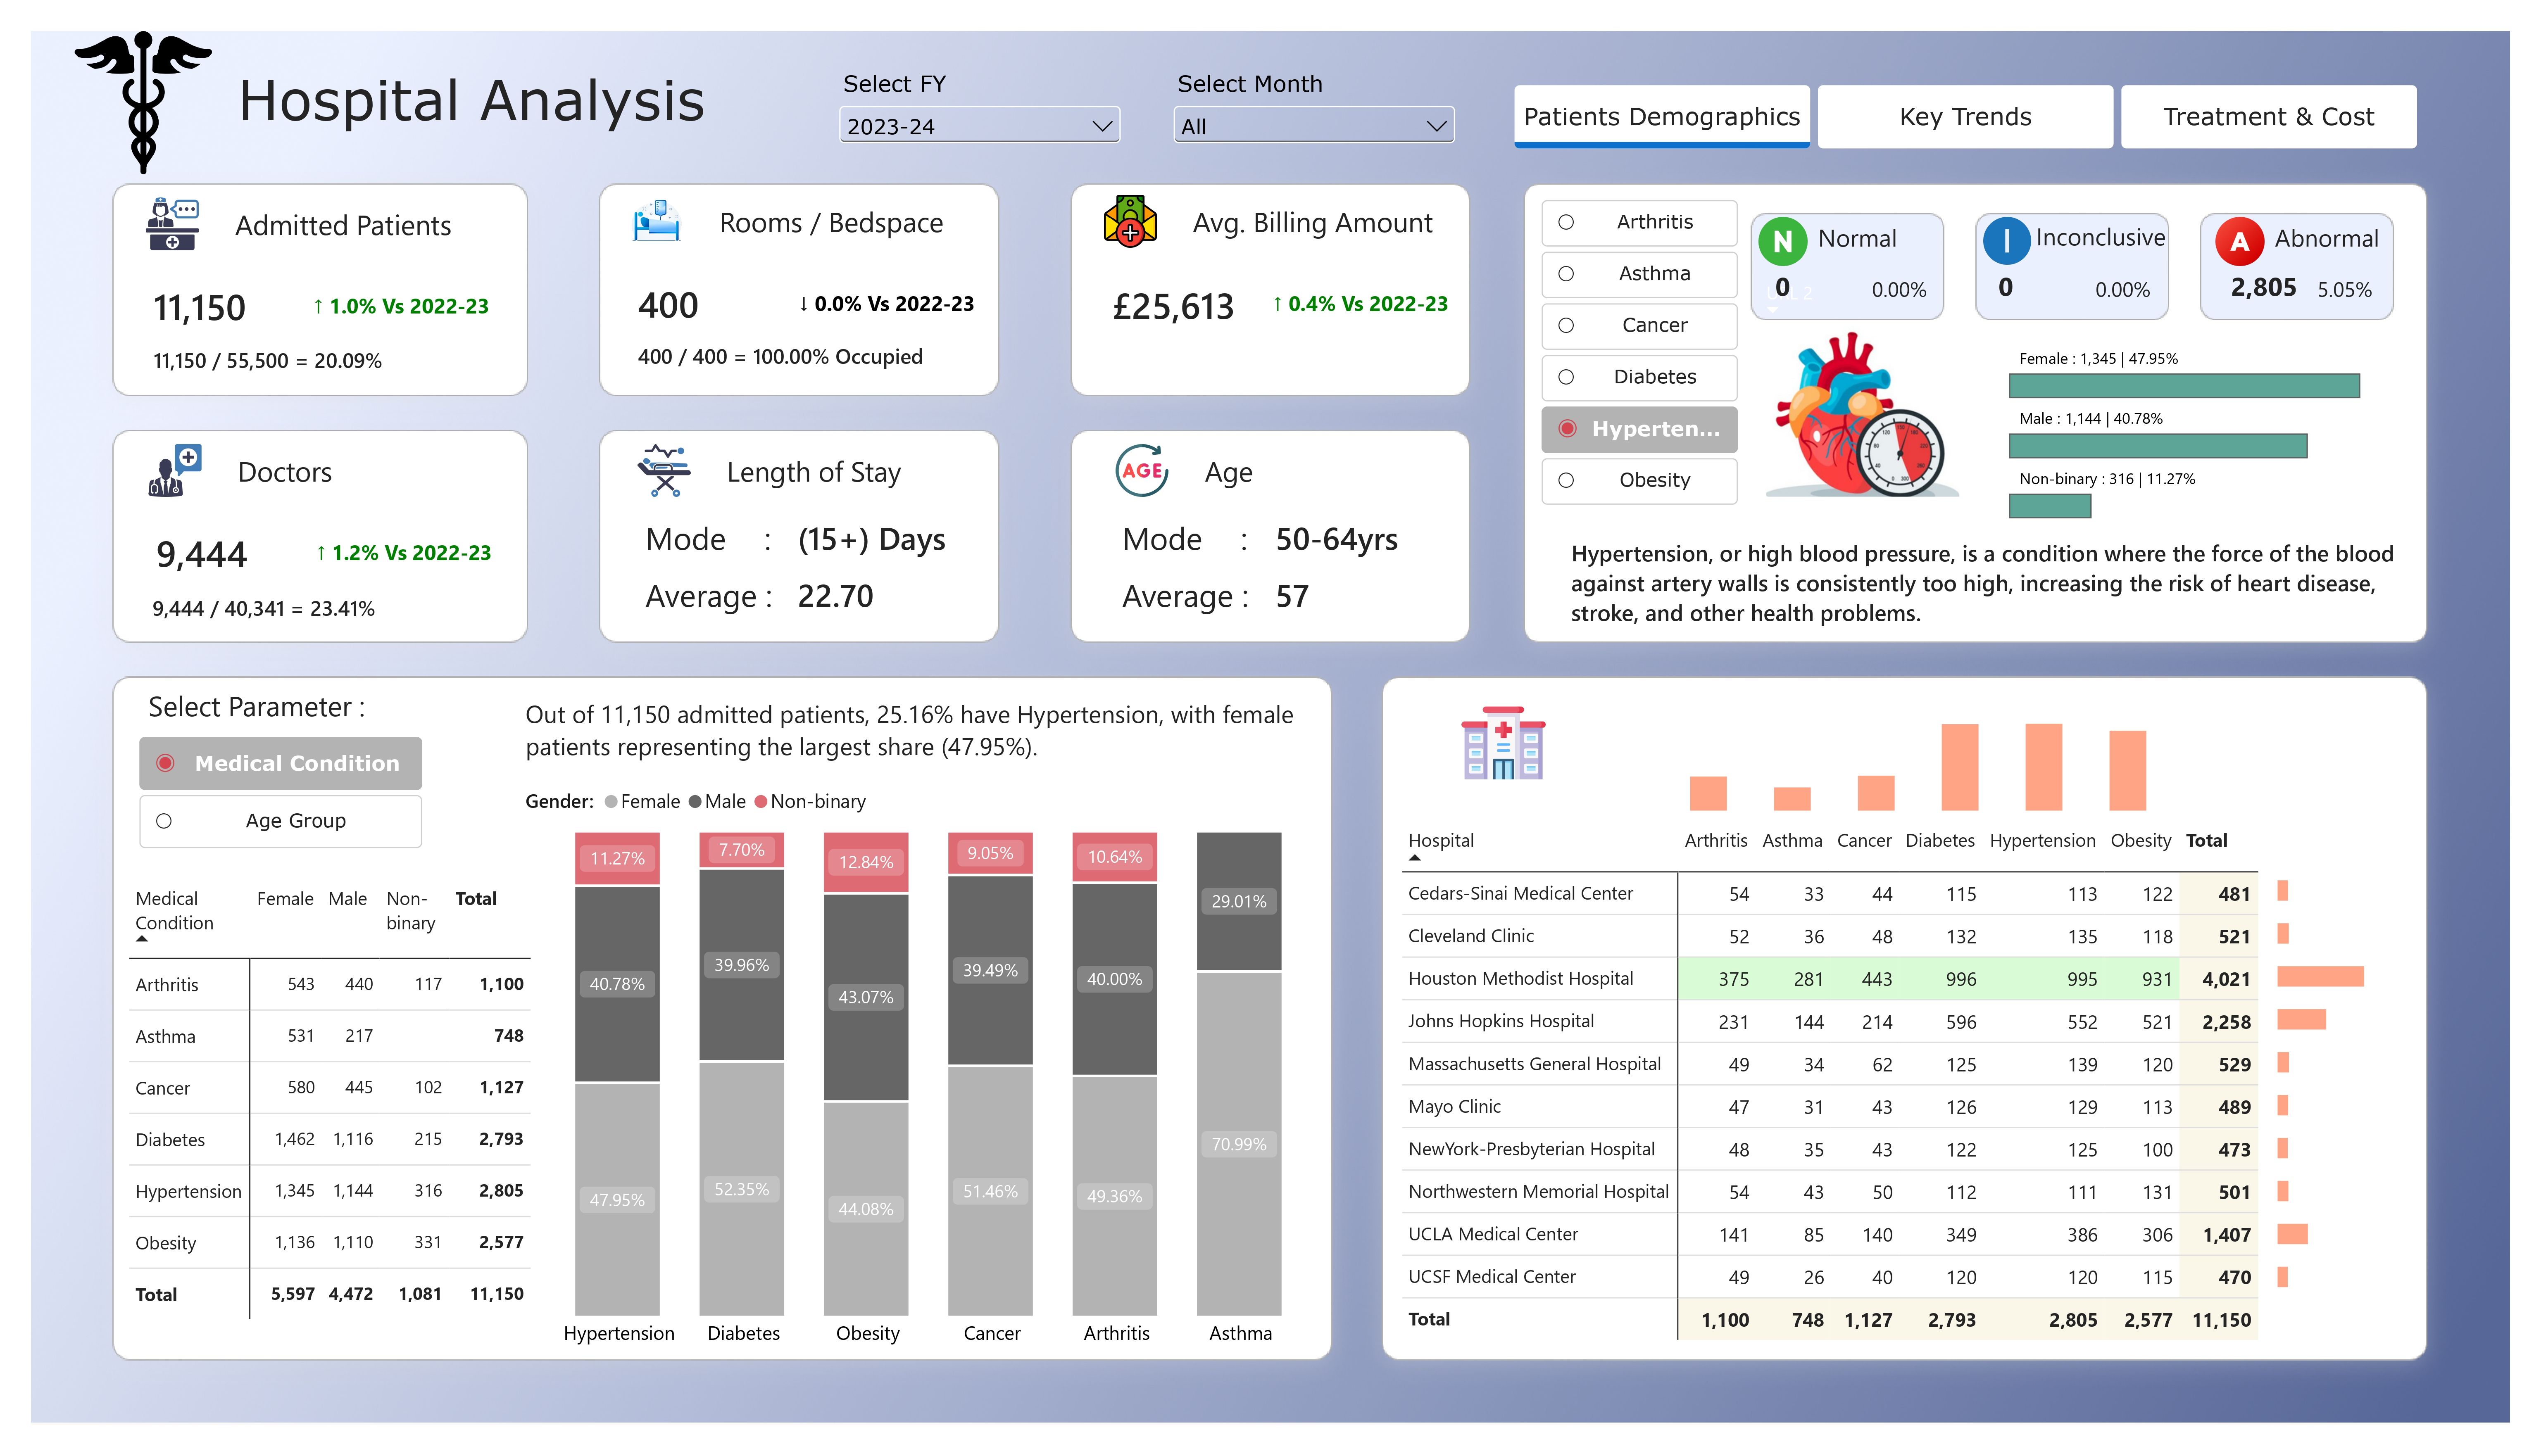

The dashboard page shown, as its layout file describes it:
{"tool":"powerbi","page":{"name":"Patients Demographics","canvas":[1920,1080],"ordinal":0},"visuals":[{"type":"image","box":[1329.4,143.9,55,37.5],"z":0,"group":"g1"},{"type":"image","box":[1683.2,143.9,55,37.5],"z":0,"group":"g2"},{"type":"image","box":[1502.7,144,55,37.5],"z":0},{"type":"textbox","box":[1553.2,146.2,117.5,36.2],"z":1000},{"type":"textbox","box":[1384.4,146.4,88.8,35],"z":1000,"group":"g1"},{"type":"textbox","box":[1738.2,146.4,88.8,35],"z":1000,"group":"g2"},{"type":"slicer","fields":{"Values":["Calendar.FY"]},"box":[620.6,29.8,228.3,65],"z":2000},{"type":"tableEx","fields":{"Values":["DimCondition.URL 2"]},"box":[1322.2,175.1,232,226.3],"z":3000},{"type":"advancedSlicerVisual","fields":{"Values":["DimCondition.Medical Condition"]},"box":[1169.9,111,152.3,277.5],"z":4000},{"type":"cardVisual","fields":{"Data":["Min(DimCondition.Description)"]},"box":[1176.7,360,678.3,133.3],"z":5000},{"type":"group","id":"g1","title":"Group 1","box":[1329.4,143.9,143.8,37.5],"z":6000},{"type":"group","id":"g2","title":"Group 1","box":[1683.2,143.9,143.8,37.5],"z":7000},{"type":"cardVisual","fields":{"Data":["DAX.Normal Results"]},"box":[1335,164.2,116.7,64.4],"z":8000},{"type":"cardVisual","fields":{"Data":["DAX.Inconclusive Results"]},"box":[1508,163.8,116.7,64.4],"z":9000},{"type":"cardVisual","fields":{"Data":["DAX.Abnormal Results"]},"box":[1688,163.8,116.7,64.4],"z":10000},{"type":"cardVisual","fields":{"Data":["DAX.Normal Result %"]},"box":[1409.5,170.7,99.6,56.9],"z":11000},{"type":"cardVisual","fields":{"Data":["DAX.Inconclusive %"]},"box":[1583.5,170.7,99.6,56.9],"z":12000},{"type":"cardVisual","fields":{"Data":["DAX.Abnormal %"]},"box":[1755.3,170.9,99.6,56.9],"z":13000},{"type":"cardVisual","fields":{"Data":["DAX.Admitted Patients"]},"box":[78.6,171.4,172.3,82.9],"z":14000},{"type":"slicer","fields":{"Values":["Calendar.FY Month"]},"box":[880,29.7,228.3,65],"z":15000},{"type":"image","box":[78.5,129,61.2,41.2],"z":16000},{"type":"textbox","box":[157.5,135,187.5,28.8],"z":17000},{"type":"cardVisual","fields":{"Data":["DAX.Adm YoY"]},"box":[202.9,177.1,201.4,70],"z":18000},{"type":"cardVisual","fields":{"Data":["DAX.Admitted P Text"]},"box":[78.6,227.1,235.7,54.3],"z":19000},{"type":"cardVisual","fields":{"Data":["DAX.Rooms"]},"box":[454.3,169.2,172.3,82.9],"z":20000},{"type":"image","box":[454.3,127.1,61,41],"z":21000},{"type":"textbox","box":[533.2,132.8,187.5,28.8],"z":22000},{"type":"cardVisual","fields":{"Data":["DAX.Room YoY"]},"box":[578.6,174.9,201.4,70],"z":23000},{"type":"cardVisual","fields":{"Data":["DAX.Rooms Occupied Text"]},"box":[454.3,224.3,265.7,54.3],"z":24000},{"type":"cardVisual","fields":{"Data":["DAX.Avg Billing Amt"]},"box":[821.2,169.8,172.3,82.9],"z":25000},{"type":"image","box":[820.9,127.2,61.2,41.3],"z":26000},{"type":"textbox","box":[900.2,133.3,187.5,28.8],"z":27000},{"type":"cardVisual","fields":{"Data":["DAX.Bill YoY"]},"box":[945.5,175.5,201.4,70],"z":28000},{"type":"cardVisual","fields":{"Data":["DAX.Doctors"]},"box":[81.1,362.2,172.3,82.9],"z":29000},{"type":"image","box":[81,319.7,61.2,41.2],"z":30000},{"type":"textbox","box":[160.1,325.7,187.5,28.8],"z":31000},{"type":"cardVisual","fields":{"Data":["DAX.Doc YoY"]},"box":[205.4,367.9,201.4,70],"z":32000},{"type":"cardVisual","fields":{"Data":["DAX.Doc Text"]},"box":[78,419.2,235.7,54.3],"z":33000},{"type":"cardVisual","fields":{"Data":["DAX.Mode Age"]},"box":[947.9,371.5,155.1,42.7],"z":34000},{"type":"image","box":[829.7,319.8,61.2,41.2],"z":35000},{"type":"textbox","box":[908.8,325.8,187.5,28.8],"z":36000},{"type":"cardVisual","fields":{"Data":["DAX.Average Age of Group"]},"box":[947.9,416,118.1,39.9],"z":37000},{"type":"textbox","box":[845.4,375.7,156.6,34.2],"z":38000},{"type":"textbox","box":[845.4,419.9,123.8,34.2],"z":39000},{"type":"cardVisual","fields":{"Data":["DAX.Mode LOS"]},"box":[577.9,371.5,251.9,42.7],"z":40000},{"type":"image","box":[460.1,319.8,61.2,41.2],"z":41000},{"type":"textbox","box":[539.2,325.8,187.5,28.8],"z":42000},{"type":"cardVisual","fields":{"Data":["DAX.Average LOS of Group"]},"box":[578.3,416,118.1,39.9],"z":43000},{"type":"textbox","box":[475.8,375.7,156.6,34.2],"z":44000},{"type":"textbox","box":[475.8,419.9,123.8,34.2],"z":45000},{"type":"clusteredBarChart","fields":{"Category":["HealthData.Gender"],"Y":["DAX.lh","DAX.Admitted Patients"]},"box":[1516.3,222.1,337.8,172.9],"z":46000},{"type":"hundredPercentStackedColumnChart","fields":{"Category":["DimCondition.Medical Condition"],"Series":["HealthData.Gender"],"Y":["DAX.Admitted Patients"]},"box":[367.2,502.4,659,538],"z":47000},{"type":"advancedSlicerVisual","fields":{"Values":["Parameter.Parameter"]},"box":[84.2,526.6,219.2,126.7],"z":48000},{"type":"textbox","box":[90.6,508.1,186.4,37],"z":49000},{"type":"pivotTable","fields":{"Columns":["HealthData.Gender"],"Rows":["DimCondition.Medical Condition"],"Values":["DAX.Admitted Patients"]},"box":[59.8,637.6,358.7,387.1],"z":50000},{"type":"pivotTable","fields":{"Columns":["DimCondition.Medical Condition"],"Rows":["HealthData.Hospital"],"Values":["DAX.Admitted Patients"]},"box":[1045.7,597.1,700,455.7],"z":51000},{"type":"barChart","fields":{"Category":["HealthData.Hospital"],"Y":["DAX.Admitted Patients"]},"box":[1724.3,635.7,131.4,354.3],"z":52000},{"type":"columnChart","fields":{"Category":["DimCondition.Medical Condition"],"Y":["DAX.Admitted Patients"]},"box":[1268.6,508.6,388.6,112.9],"z":53000},{"type":"image","box":[1087.1,518.6,107.1,65.7],"z":54000},{"type":"pageNavigator","box":[1148.9,42,701.1,49.7],"z":54001},{"type":"image","box":[0,0,167.5,110.8],"z":54002},{"type":"textbox","box":[160.1,26.4,386.4,55.4],"z":54003}]}

Visuals, with their boxes on the page's 1920x1080 design canvas (x1, y1, x2, y2). These are canvas units, not pixel positions in the 2541x1456 screenshot, which may show the page scaled, cropped or inside an application window:
image: rect(1329, 144, 1384, 181)
image: rect(1683, 144, 1738, 181)
image: rect(1503, 144, 1558, 182)
textbox: rect(1553, 146, 1671, 182)
textbox: rect(1384, 146, 1473, 181)
textbox: rect(1738, 146, 1827, 181)
slicer - Calendar.FY: rect(621, 30, 849, 95)
tableEx - DimCondition.URL 2: rect(1322, 175, 1554, 401)
advancedSlicerVisual - DimCondition.Medical Condition: rect(1170, 111, 1322, 388)
cardVisual - Min(DimCondition.Description): rect(1177, 360, 1855, 493)
"Group 1" group: rect(1329, 144, 1473, 181)
"Group 1" group: rect(1683, 144, 1827, 181)
cardVisual - DAX.Normal Results: rect(1335, 164, 1452, 229)
cardVisual - DAX.Inconclusive Results: rect(1508, 164, 1625, 228)
cardVisual - DAX.Abnormal Results: rect(1688, 164, 1805, 228)
cardVisual - DAX.Normal Result %: rect(1410, 171, 1509, 228)
cardVisual - DAX.Inconclusive %: rect(1584, 171, 1683, 228)
cardVisual - DAX.Abnormal %: rect(1755, 171, 1855, 228)
cardVisual - DAX.Admitted Patients: rect(79, 171, 251, 254)
slicer - Calendar.FY Month: rect(880, 30, 1108, 95)
image: rect(78, 129, 140, 170)
textbox: rect(158, 135, 345, 164)
cardVisual - DAX.Adm YoY: rect(203, 177, 404, 247)
cardVisual - DAX.Admitted P Text: rect(79, 227, 314, 281)
cardVisual - DAX.Rooms: rect(454, 169, 627, 252)
image: rect(454, 127, 515, 168)
textbox: rect(533, 133, 721, 162)
cardVisual - DAX.Room YoY: rect(579, 175, 780, 245)
cardVisual - DAX.Rooms Occupied Text: rect(454, 224, 720, 279)
cardVisual - DAX.Avg Billing Amt: rect(821, 170, 994, 253)
image: rect(821, 127, 882, 168)
textbox: rect(900, 133, 1088, 162)
cardVisual - DAX.Bill YoY: rect(946, 176, 1147, 246)
cardVisual - DAX.Doctors: rect(81, 362, 253, 445)
image: rect(81, 320, 142, 361)
textbox: rect(160, 326, 348, 354)
cardVisual - DAX.Doc YoY: rect(205, 368, 407, 438)
cardVisual - DAX.Doc Text: rect(78, 419, 314, 474)
cardVisual - DAX.Mode Age: rect(948, 372, 1103, 414)
image: rect(830, 320, 891, 361)
textbox: rect(909, 326, 1096, 355)
cardVisual - DAX.Average Age of Group: rect(948, 416, 1066, 456)
textbox: rect(845, 376, 1002, 410)
textbox: rect(845, 420, 969, 454)
cardVisual - DAX.Mode LOS: rect(578, 372, 830, 414)
image: rect(460, 320, 521, 361)
textbox: rect(539, 326, 727, 355)
cardVisual - DAX.Average LOS of Group: rect(578, 416, 696, 456)
textbox: rect(476, 376, 632, 410)
textbox: rect(476, 420, 600, 454)
clusteredBarChart - HealthData.Gender x DAX.lh: rect(1516, 222, 1854, 395)
hundredPercentStackedColumnChart - DimCondition.Medical Condition x HealthData.Gender: rect(367, 502, 1026, 1040)
advancedSlicerVisual - Parameter.Parameter: rect(84, 527, 303, 653)
textbox: rect(91, 508, 277, 545)
pivotTable - HealthData.Gender x DimCondition.Medical Condition: rect(60, 638, 418, 1025)
pivotTable - DimCondition.Medical Condition x HealthData.Hospital: rect(1046, 597, 1746, 1053)
barChart - HealthData.Hospital x DAX.Admitted Patients: rect(1724, 636, 1856, 990)
columnChart - DimCondition.Medical Condition x DAX.Admitted Patients: rect(1269, 509, 1657, 622)
image: rect(1087, 519, 1194, 584)
pageNavigator: rect(1149, 42, 1850, 92)
image: rect(0, 0, 168, 111)
textbox: rect(160, 26, 546, 82)
